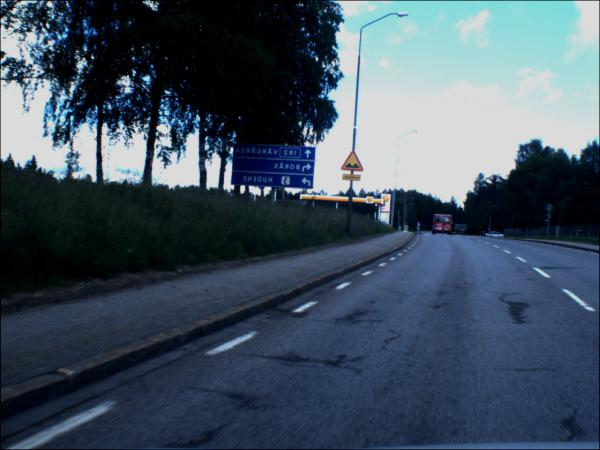WARNING: (341, 151, 365, 173)
